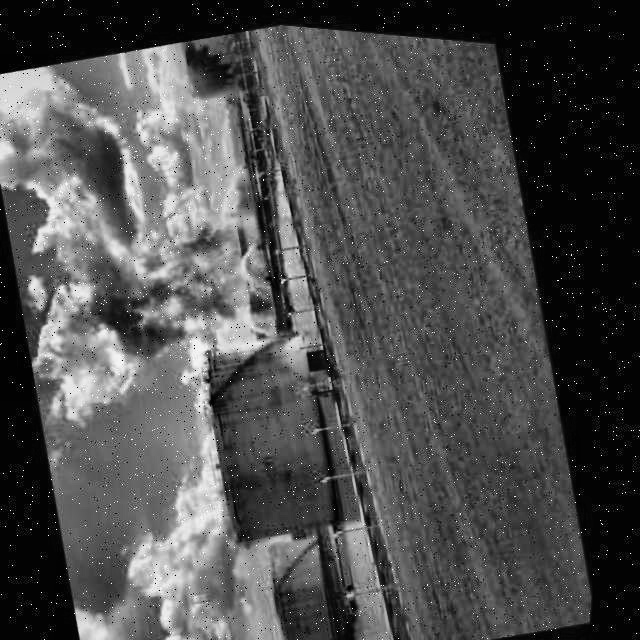Fire: (77, 216, 242, 370), (196, 214, 272, 309)
Smoke: (183, 208, 266, 316)
